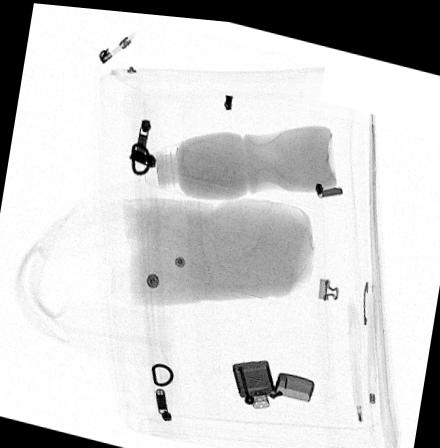Lighter: (230, 353, 314, 403)
